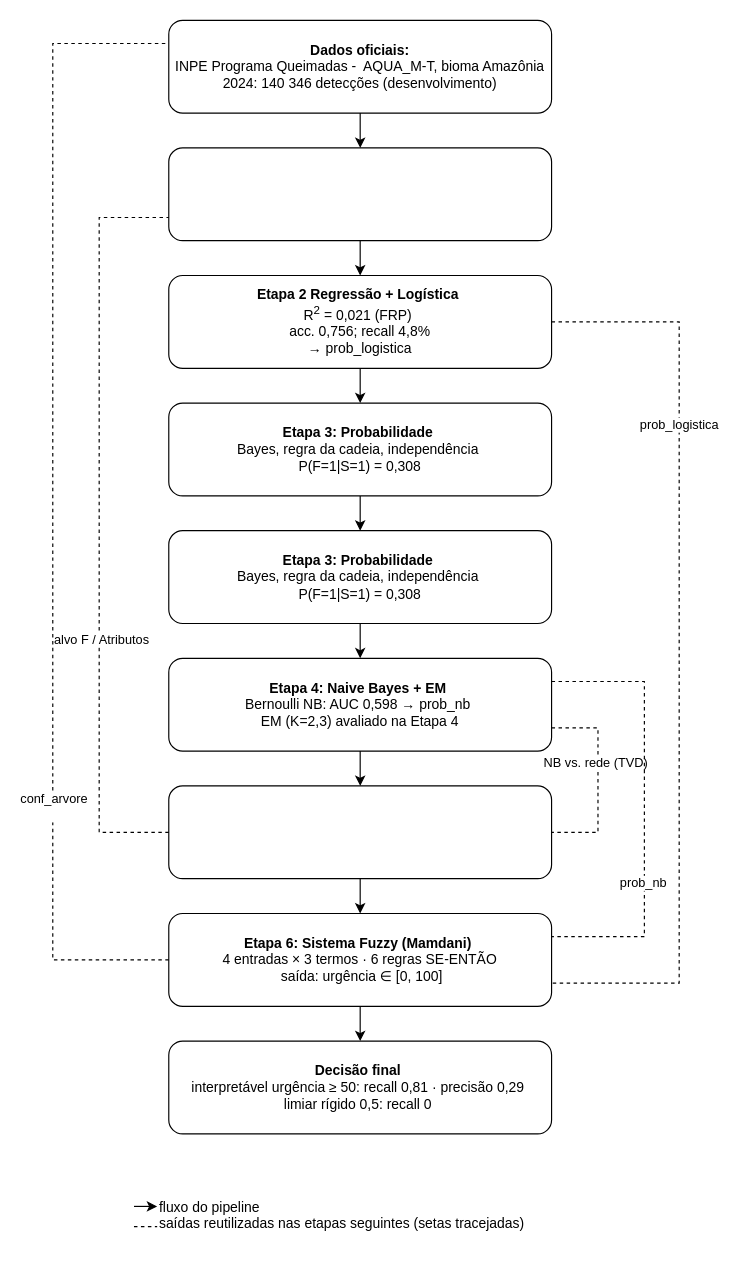
This 738x1270 diagram has some shape labels left out. Each missing label, with the centre of its shape:
Etapa 1: Árvore de decisão (ID3) acc. 0,749 · recall 1,3% → conf_arvore: the point at 360,194
Etapa 5: Rede Bayesiana 1 2 parâmetros (vs. 31) · AUC 0,581 → risco_bayesiano: the point at 360,832
